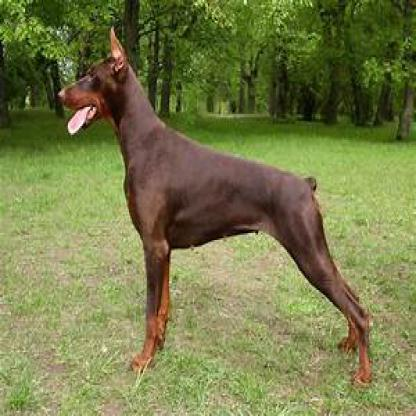dog: (58, 25, 372, 388)
